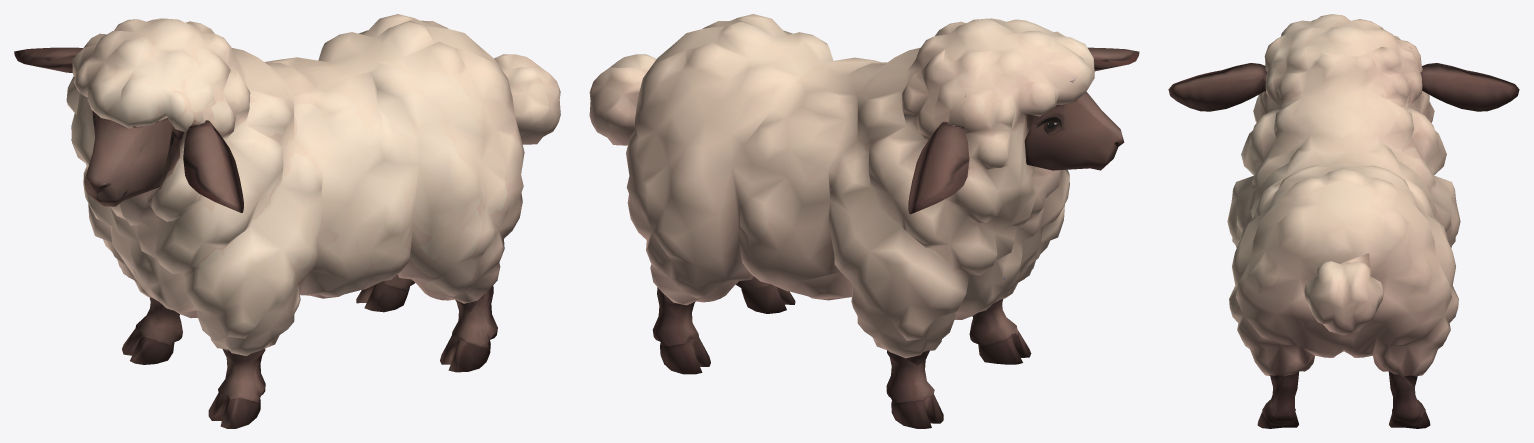
The model's file is sheep.glb.
The picture shows the model from 3 angles, left to right: view 1: azimuth 30°, elevation 25°; view 2: azimuth 150°, elevation 25°; view 3: azimuth 270°, elevation 25°; orthographic projection. The views are drawn at different scales.
Visible parts, largest first — view 1: tripo_part_0, tripo_part_6, tripo_part_1, tripo_part_8, tripo_part_2, tripo_part_4, tripo_part_3, tripo_part_5, tripo_part_7; view 2: tripo_part_0, tripo_part_6, tripo_part_1, tripo_part_7, tripo_part_5, tripo_part_3, tripo_part_2, tripo_part_4, tripo_part_8; view 3: tripo_part_0, tripo_part_1, tripo_part_8, tripo_part_7, tripo_part_4, tripo_part_5.
Part boxes in pixels (left/top/right/bottom): tripo_part_0: left=66, top=14, right=524, bottom=355; tripo_part_6: left=84, top=110, right=172, bottom=206; tripo_part_1: left=494, top=54, right=560, bottom=144; tripo_part_8: left=183, top=120, right=243, bottom=212; tripo_part_2: left=208, top=348, right=265, bottom=428; tripo_part_4: left=440, top=285, right=497, bottom=372; tripo_part_3: left=122, top=302, right=182, bottom=364; tripo_part_5: left=356, top=274, right=414, bottom=312; tripo_part_7: left=14, top=47, right=83, bottom=72; tripo_part_0: left=626, top=14, right=1094, bottom=365; tripo_part_6: left=1024, top=91, right=1124, bottom=170; tripo_part_1: left=589, top=54, right=656, bottom=145; tripo_part_7: left=908, top=122, right=969, bottom=214; tripo_part_5: left=652, top=287, right=710, bottom=374; tripo_part_3: left=886, top=350, right=943, bottom=428; tripo_part_2: left=969, top=299, right=1031, bottom=364; tripo_part_4: left=736, top=276, right=795, bottom=313; tripo_part_8: left=1088, top=47, right=1139, bottom=71; tripo_part_0: left=1227, top=14, right=1460, bottom=387; tripo_part_1: left=1304, top=253, right=1383, bottom=335; tripo_part_8: left=1168, top=63, right=1267, bottom=111; tripo_part_7: left=1420, top=63, right=1519, bottom=111; tripo_part_4: left=1257, top=371, right=1299, bottom=428; tripo_part_5: left=1388, top=371, right=1430, bottom=428.
Size of the model in its own units: 0.9663 by 0.6948 by 0.7417.
9 materials, 9 textured.
